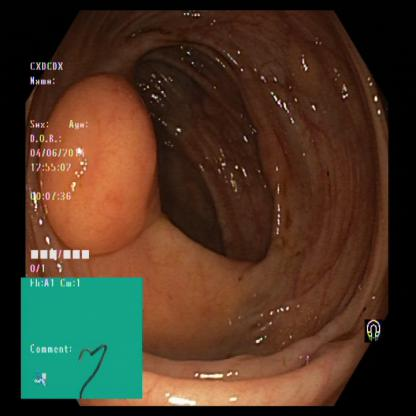Polyps: (42, 86, 166, 250)
